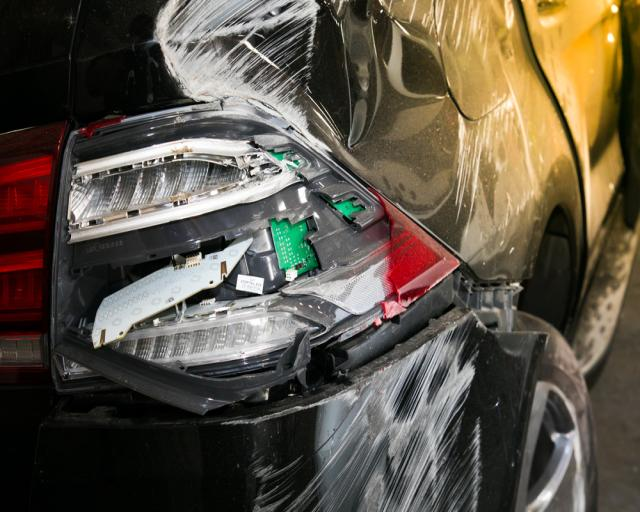dent: (327, 0, 459, 209)
lamp broken: (50, 103, 468, 410)
scratch: (220, 312, 486, 512), (152, 0, 333, 152), (453, 104, 534, 240), (406, 0, 490, 48)
